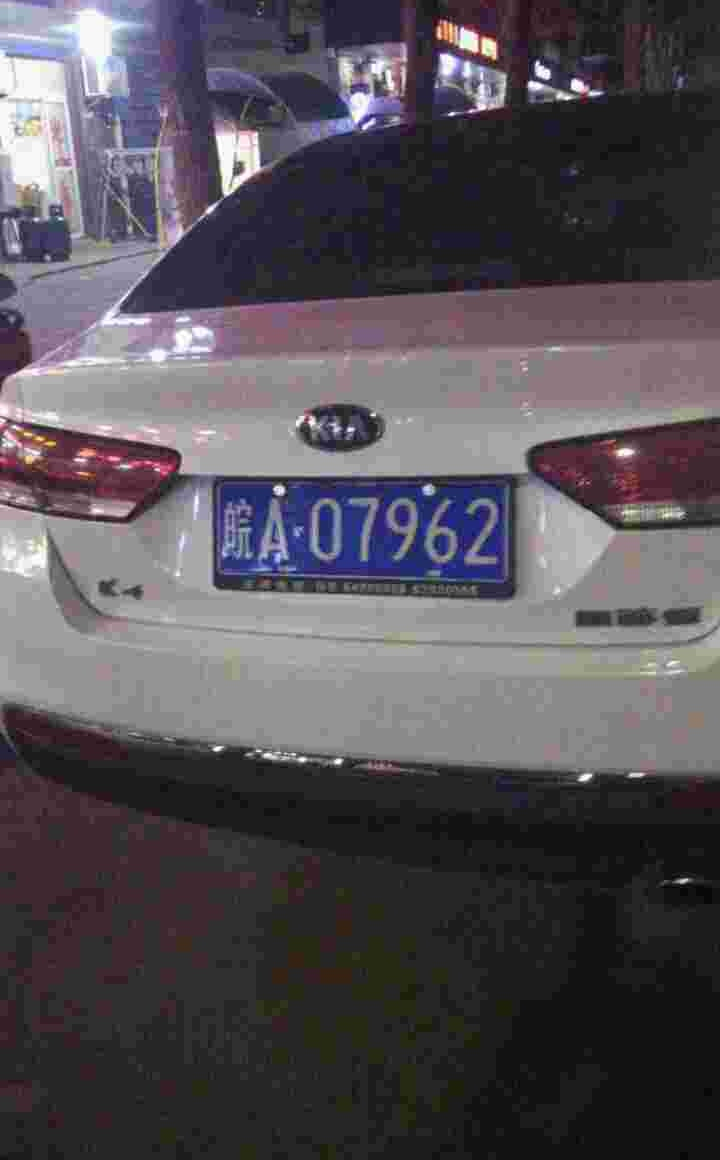license_plate: (213, 479, 503, 587)
